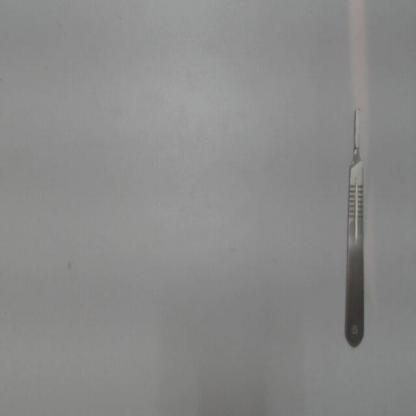No.4 BP Handle: (340, 100, 370, 361)
